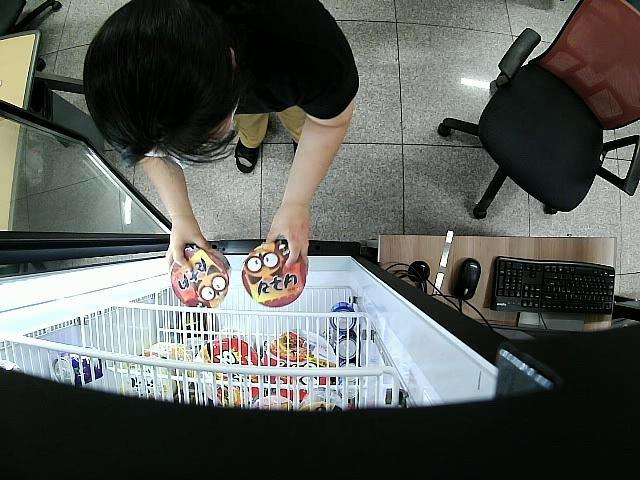05_nuguri_L: (242, 243, 306, 306), (170, 246, 232, 306)
